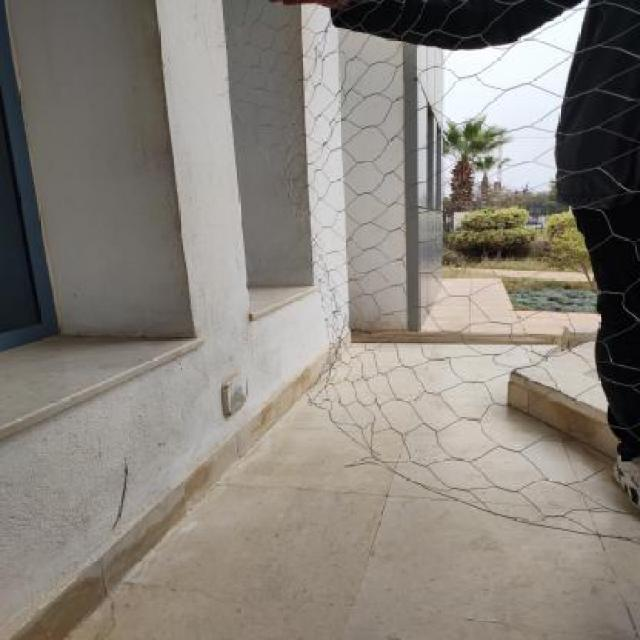fence line: (219, 134, 410, 512)
